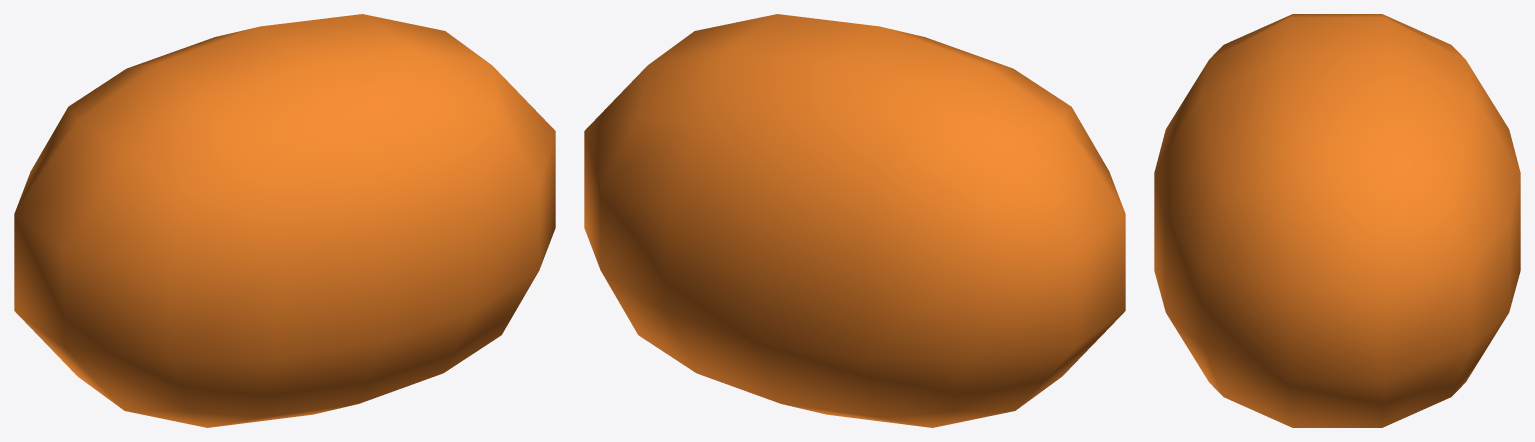
The model's file is candy_assets38.fbx.
3 renders of one model, left to right at view 1: azimuth 30°, elevation 25°; view 2: azimuth 150°, elevation 25°; view 3: azimuth 270°, elevation 25°, orthographic. The views are drawn at different scales.
Parts seen in each view (by area): view 1: candy_assets38; view 2: candy_assets38; view 3: candy_assets38.
Boxes of the visible parts, x1,y1,x2,y2 form: candy_assets38: (14,14,555,427); candy_assets38: (584,14,1125,427); candy_assets38: (1154,14,1520,427).
Size of the model in its own units: 294 by 200 by 200.
1 material, 1 textured.
